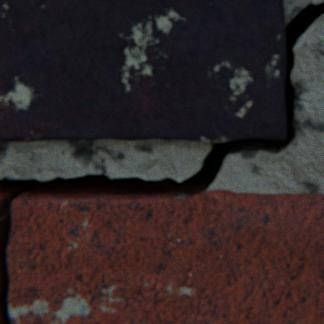brick: (0, 0, 286, 141)
broken_brick: (8, 189, 323, 323), (0, 195, 3, 206), (0, 271, 1, 290)
crack: (0, 1, 323, 323)
